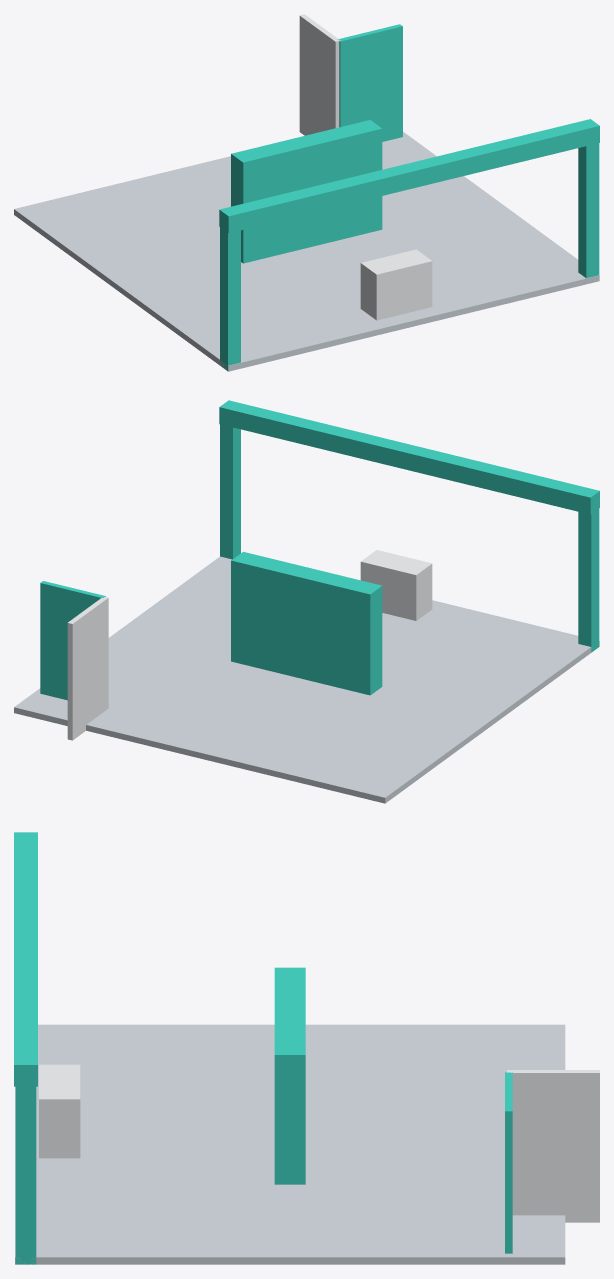
The picture shows the model from 3 angles, top to bottom: view 1: azimuth 30°, elevation 25°; view 2: azimuth 150°, elevation 25°; view 3: azimuth 270°, elevation 25°; orthographic projection. The views are drawn at different scales.
Visible parts, largest first — view 1: Exhibition Booth Concept; view 2: Exhibition Booth Concept; view 3: Exhibition Booth Concept.
Boxes of the visible parts, <box> form: Exhibition Booth Concept: <box>14,14,599,371</box>; Exhibition Booth Concept: <box>14,400,599,803</box>; Exhibition Booth Concept: <box>14,832,599,1264</box>.
Bounding box in the file's own units: 8 × 3.2 × 8.52.
